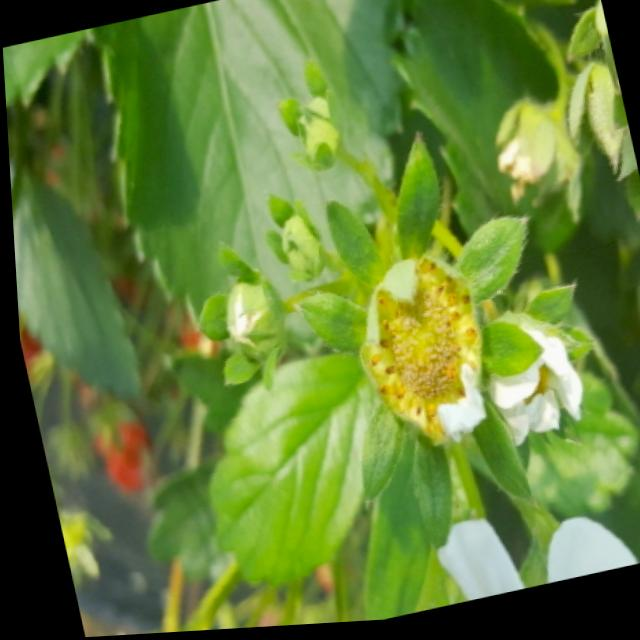Blossom Blight: (360, 260, 477, 443)
